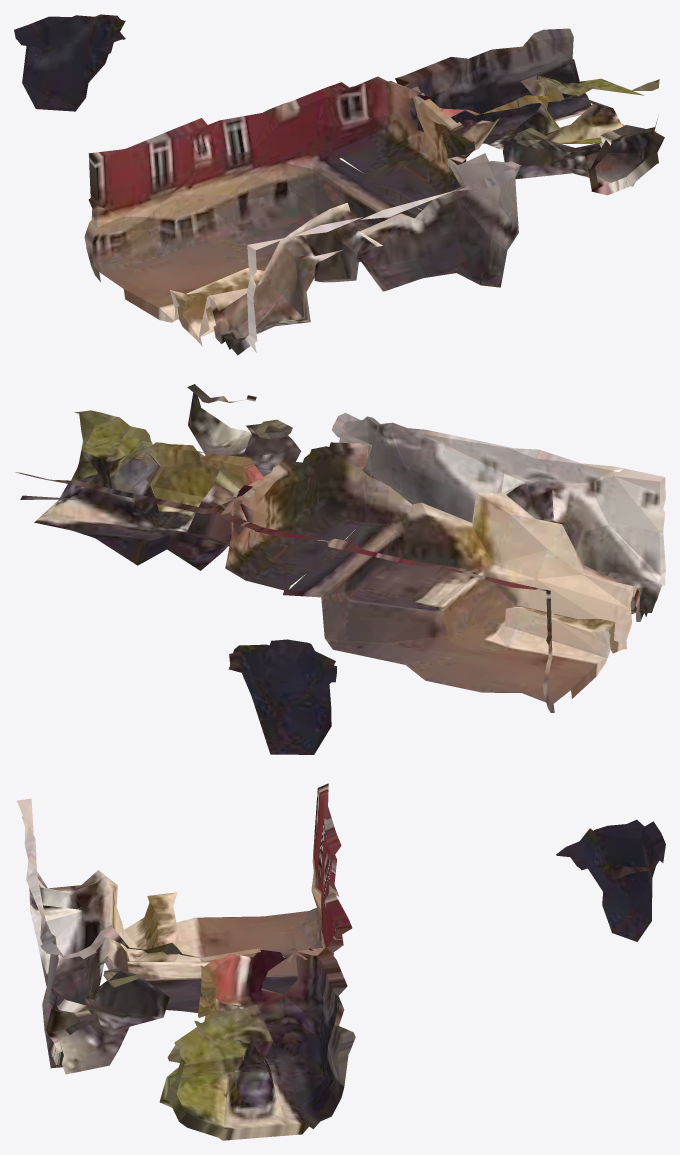
The picture shows the model from 3 angles, top to bottom: view 1: azimuth 30°, elevation 25°; view 2: azimuth 150°, elevation 25°; view 3: azimuth 270°, elevation 25°; orthographic projection. The views are drawn at different scales.
Visible parts, largest first — view 1: Mesh_0; view 2: Mesh_0; view 3: Mesh_0.
Boxes of the visible parts, x1=… form: Mesh_0: x1=14, y1=14, x2=664, y2=355; Mesh_0: x1=15, y1=384, x2=665, y2=754; Mesh_0: x1=17, y1=783, x2=665, y2=1140.
Size of the model in its own units: 30.42 by 7.69 by 30.17.
1 material, 1 textured.
